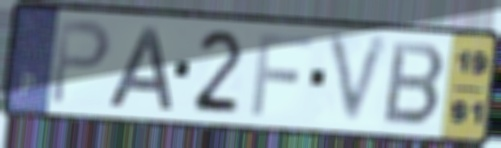2: (191, 28, 248, 119)
A: (104, 23, 176, 111)
B: (380, 38, 449, 129)
F: (248, 30, 316, 119)
P: (47, 16, 115, 109)
V: (324, 30, 396, 132)
